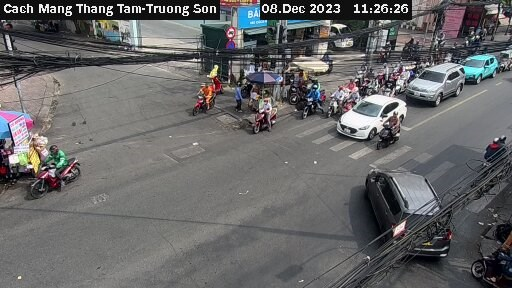car: (335, 91, 408, 143), (410, 62, 466, 106), (461, 51, 500, 85)
motorbike: (16, 149, 108, 202), (473, 240, 510, 285), (186, 80, 227, 116), (375, 114, 405, 151), (242, 99, 276, 129), (301, 85, 326, 118), (327, 84, 347, 117), (395, 72, 410, 91)
